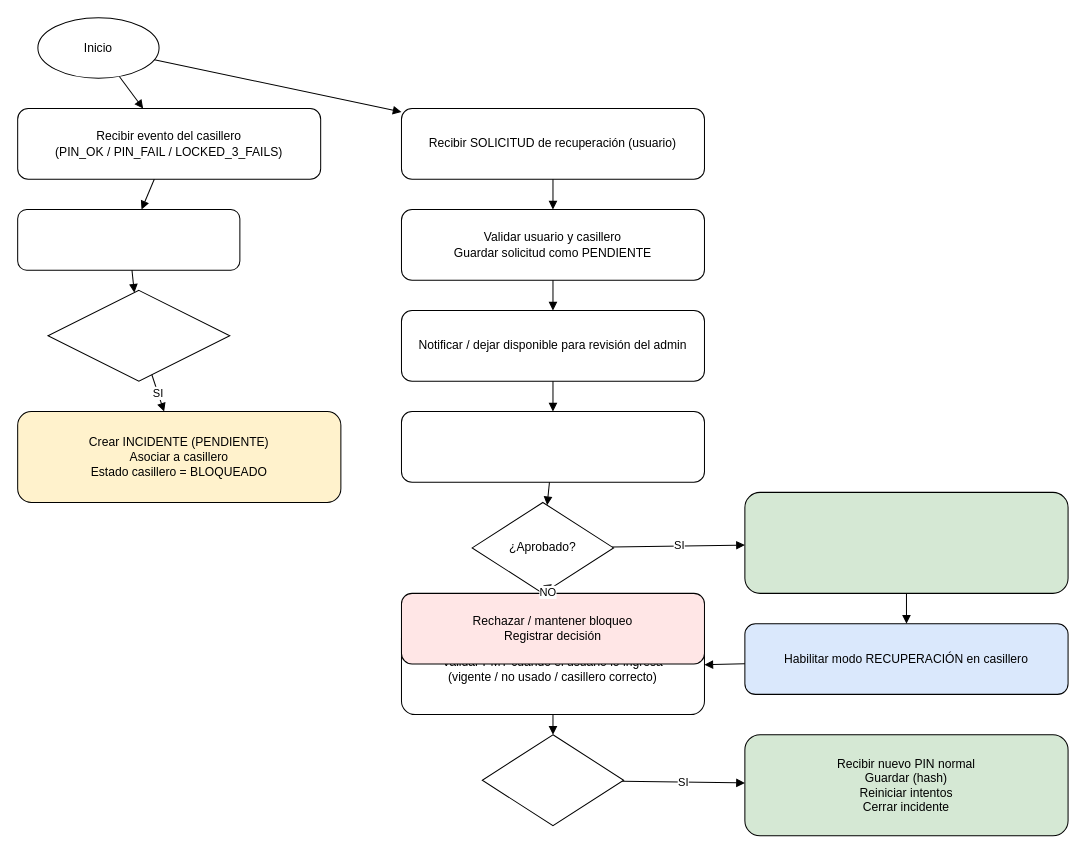
Image size: 1086x853. Some labels were removed from this diagram. The box of each missing label's shape, as (x1, y1, x2, y2) in pixels:
Generar PMT (5 dígitos) Caducidad + 1 uso Asociar a incidente+casillero: (744, 491, 1068, 593)
Recibir decisión del admin (Aprobar / Rechazar): (400, 411, 704, 482)
Registrar auditoría (logs): (17, 209, 240, 270)
¿Evento = LOCKED_3_FAILS?: (47, 289, 230, 381)
¿PMT válido?: (481, 734, 624, 826)
